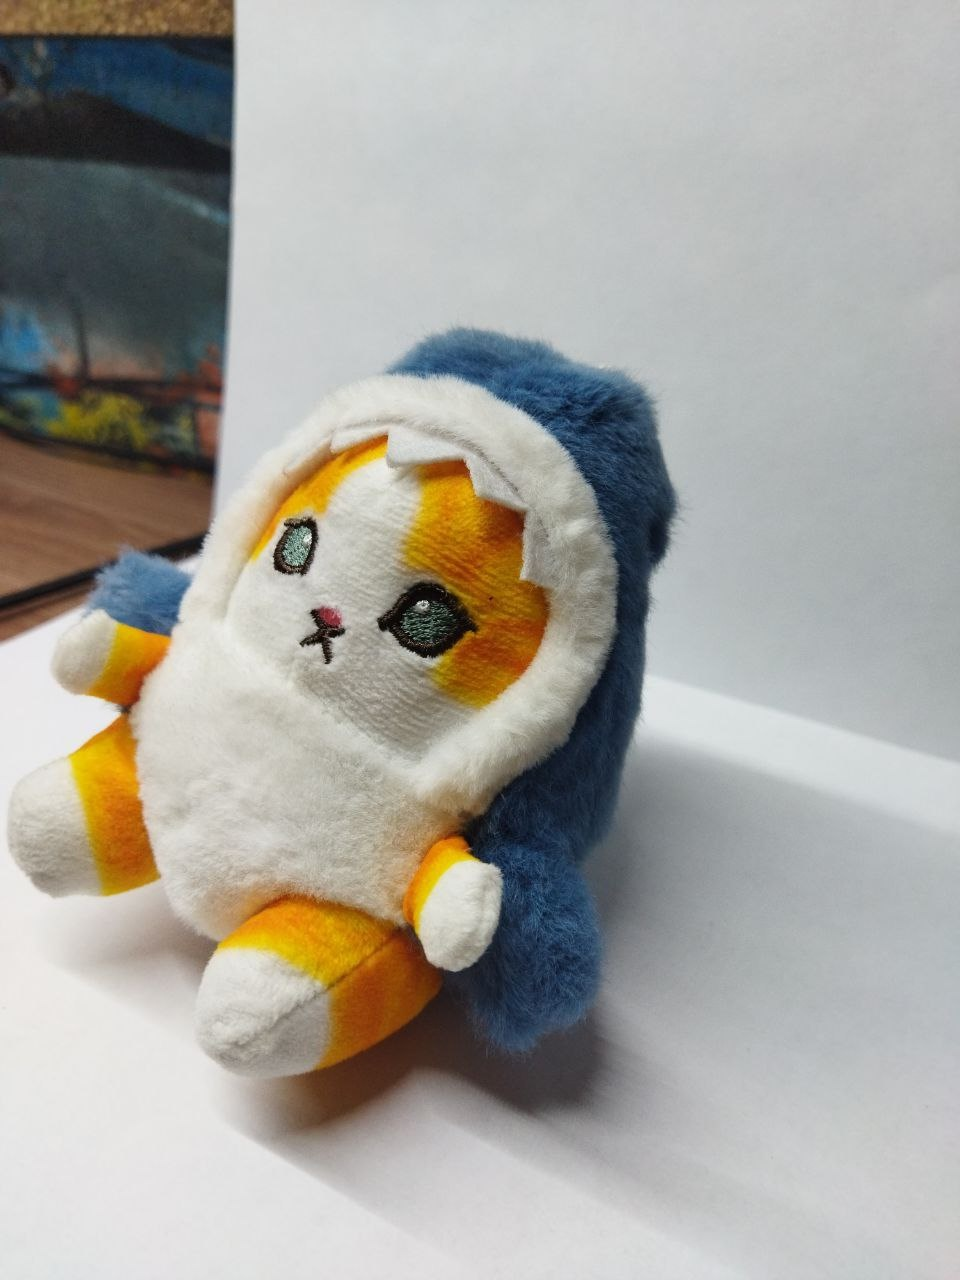Snark Cat: (1, 324, 689, 1077)
